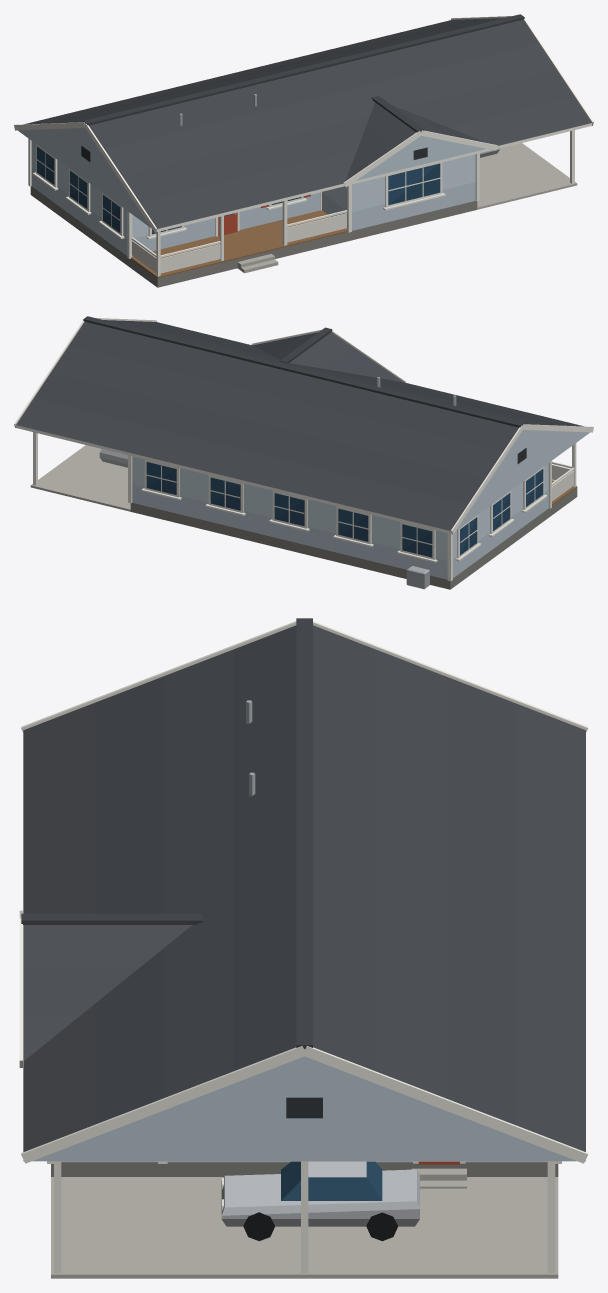
The model's file is house_21x11.glb.
3 renders of one model, top to bottom at view 1: azimuth 30°, elevation 25°; view 2: azimuth 150°, elevation 25°; view 3: azimuth 270°, elevation 25°, orthographic. The views are drawn at different scales.
Parts seen in each view (by area): view 1: house; view 2: house; view 3: house.
Boxes of the visible parts, <box> form: house: <box>14,14,593,287</box>; house: <box>14,316,593,589</box>; house: <box>19,618,588,1278</box>.
Bounding box in the file's own units: 21.93 × 5.79 × 12.32.
